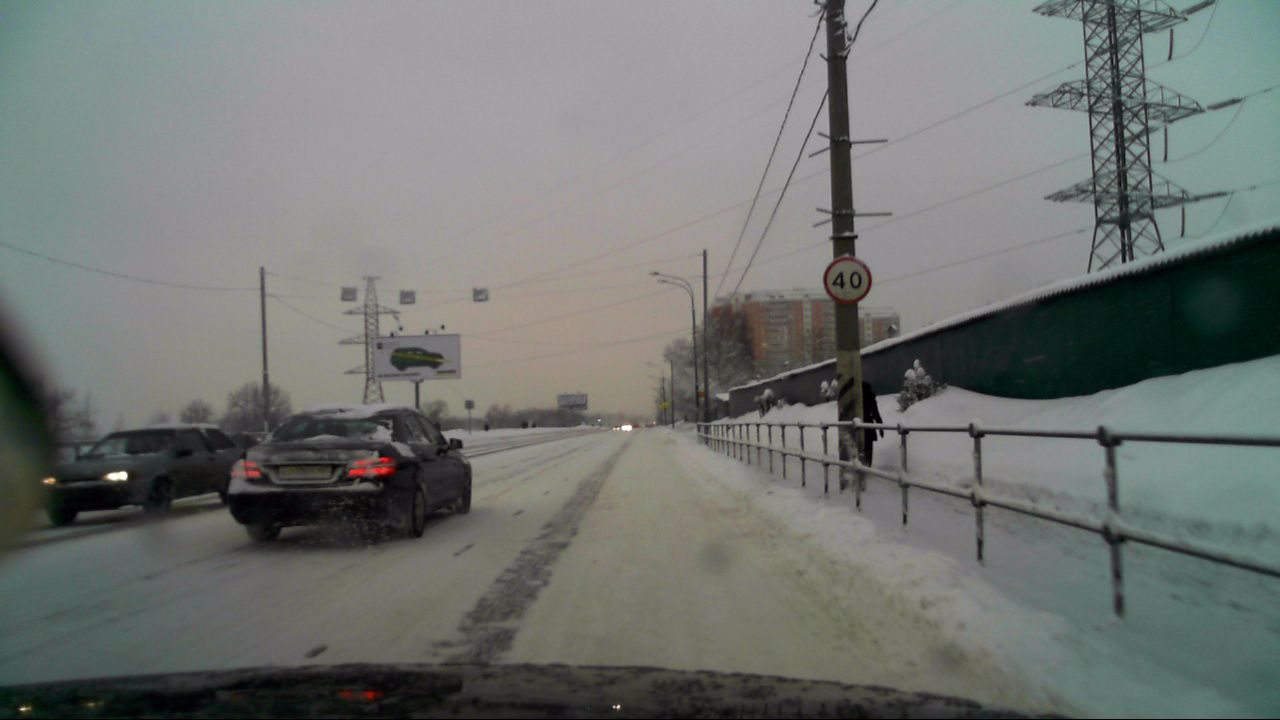speed_warning_40: (823, 251, 873, 306)
